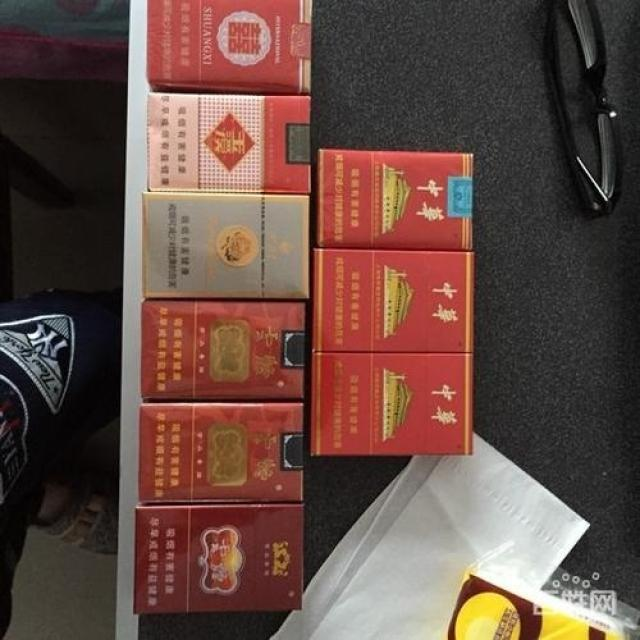box: (134, 506, 305, 617), (142, 193, 311, 298), (138, 399, 303, 506), (312, 250, 475, 353), (311, 353, 474, 456), (147, 92, 312, 193), (140, 300, 305, 401), (316, 148, 474, 250), (146, 0, 312, 95)
